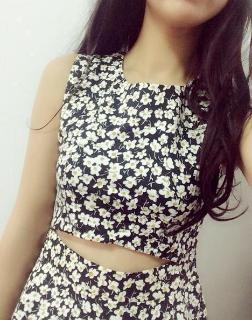vest: (10, 51, 242, 319)
